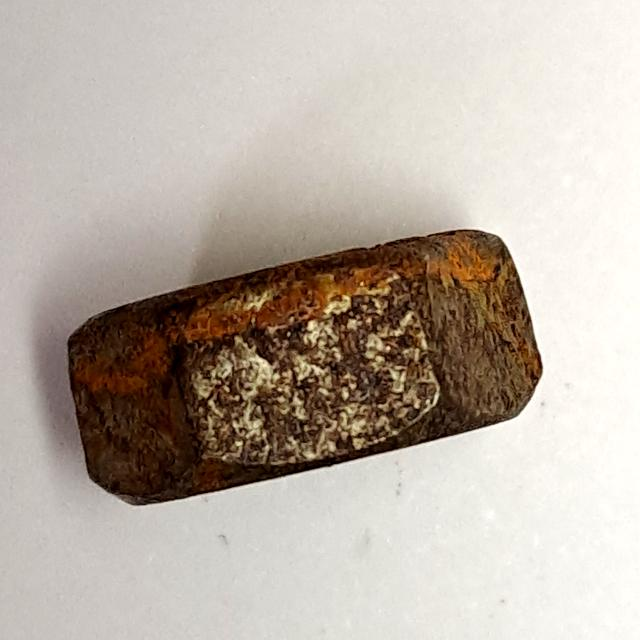Side_Rust: (51, 209, 555, 530)
